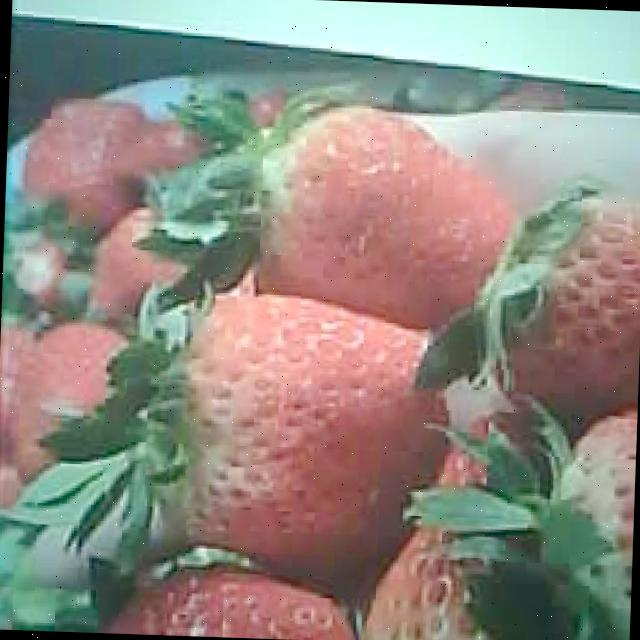strawberry: (257, 104, 514, 327), (188, 292, 447, 508)
